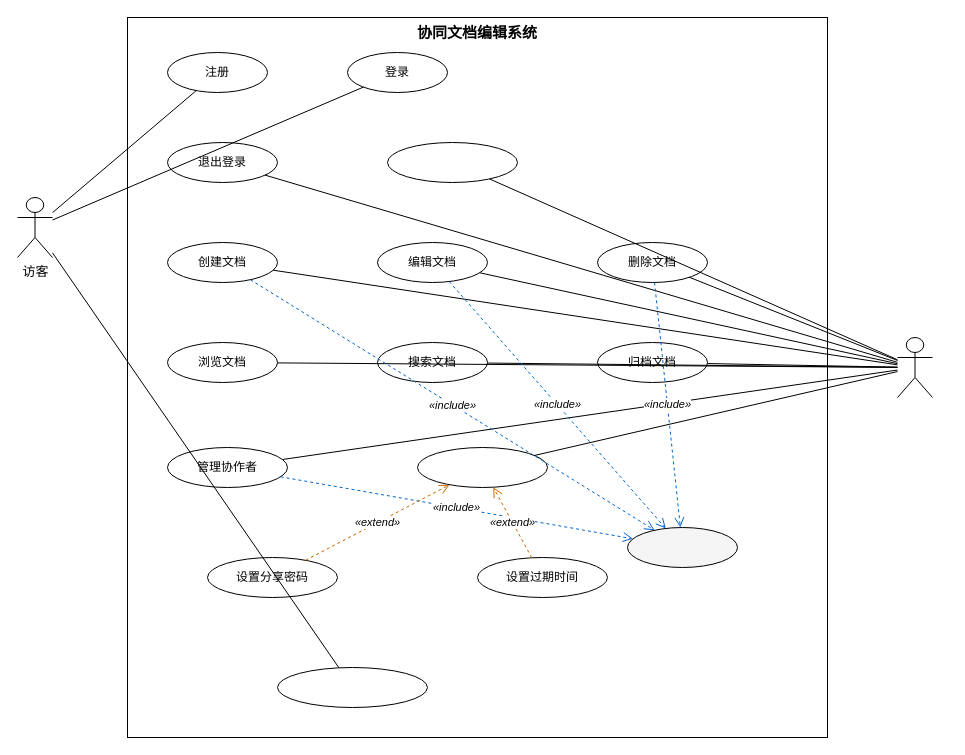
Some shapes in this 965 by 755 pixel diagram are drawn without their labels. The centre of each missing label's shape, as x and y in pixels:
创建分享链接: [482,467]
已登录用户: [914,367]
管理个人资料: [452,162]
身份验证: [682,547]
通过分享链接访问: [352,687]
